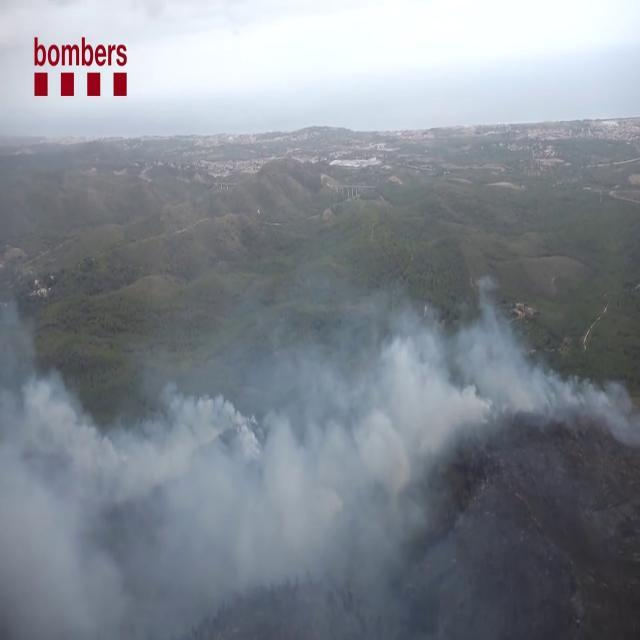Smoke: (1, 265, 637, 626)
